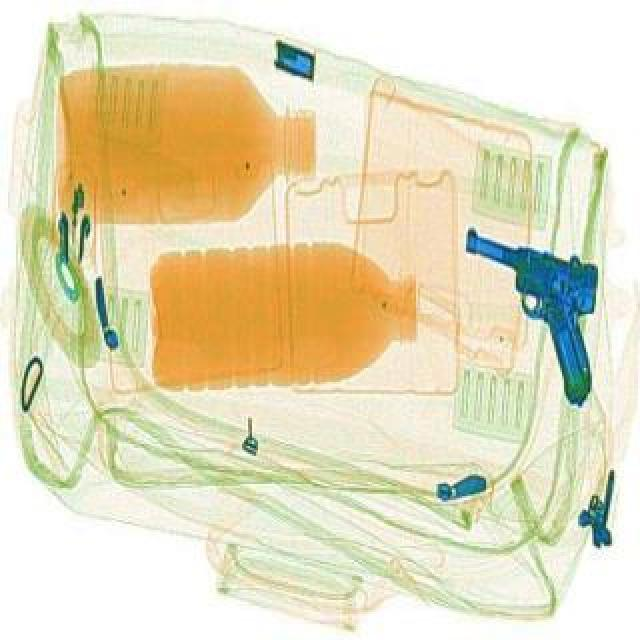gun: (462, 204, 626, 416)
